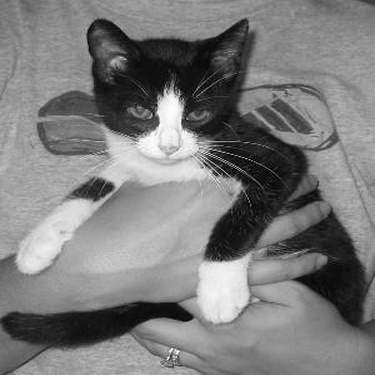cat: (2, 17, 365, 349)
